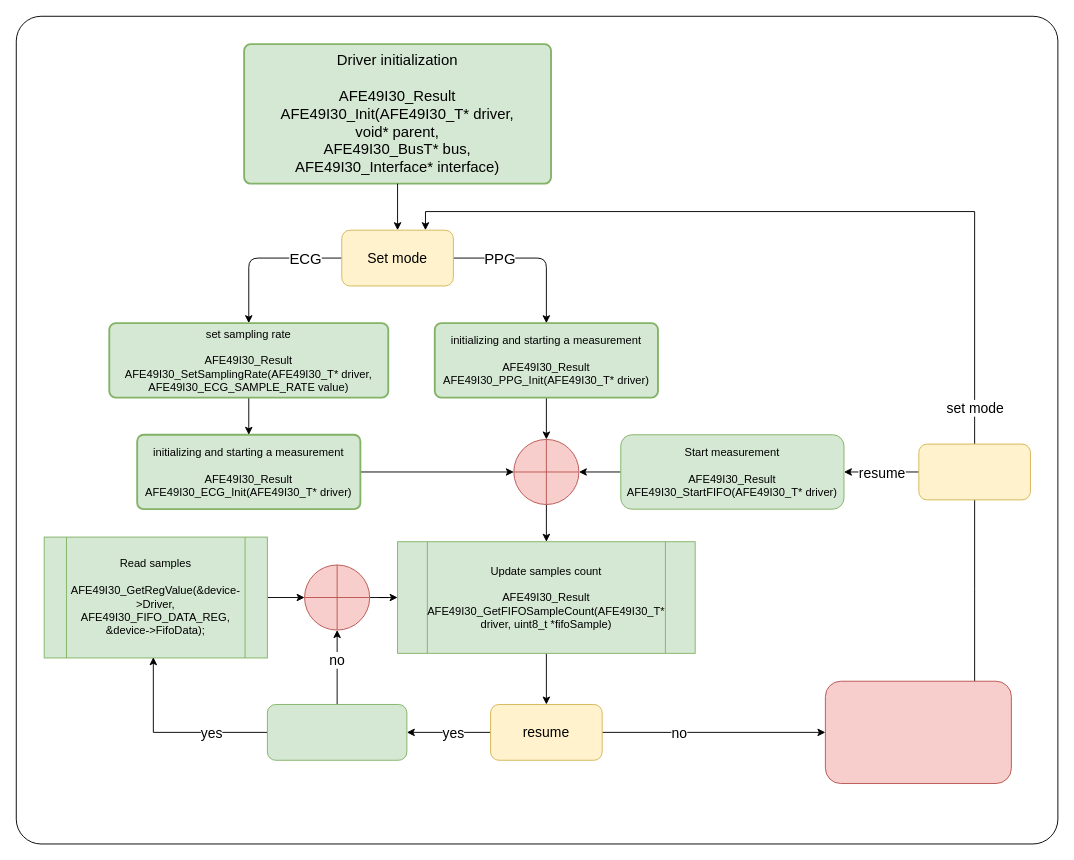
Some shapes in this 1074 by 860 pixel diagram are drawn without their labels. Each missing label, with the centre of its shape:
measure: point (974, 471)
samples count > 0: point (336, 732)
Stop measure AFE49I30_Result AFE49I30_StopFIFO(AFE49I30_T* driver): point (917, 732)
